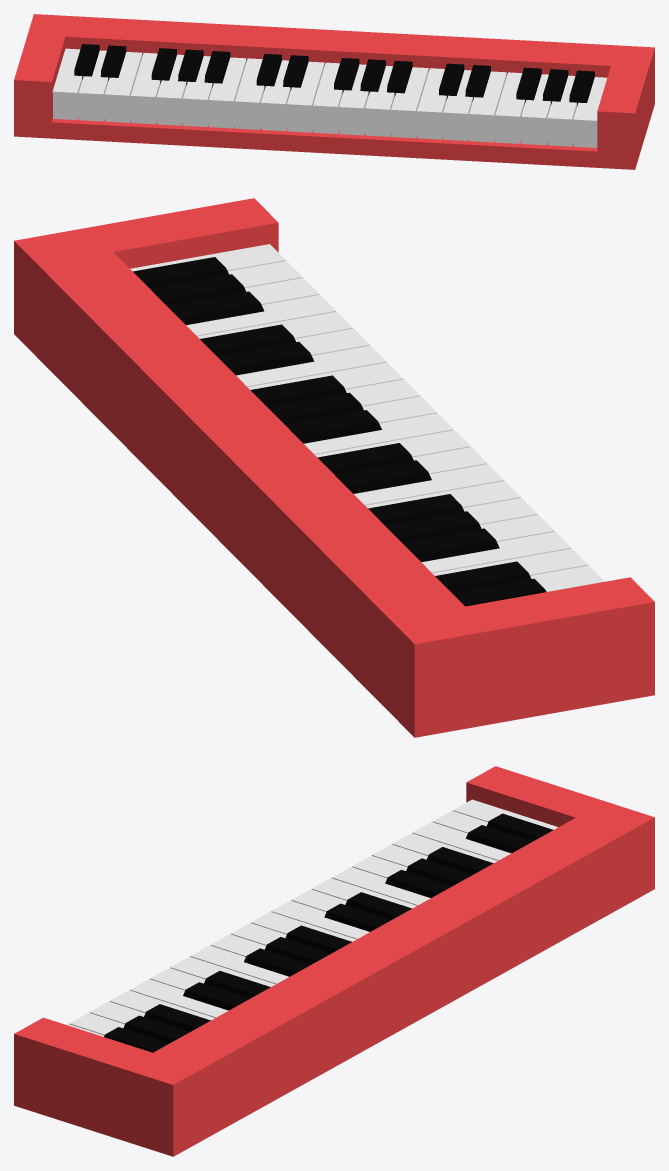
The model's file is ToyObject_176.fbx.
The picture shows the model from 3 angles, top to bottom: view 1: azimuth 30°, elevation 25°; view 2: azimuth 150°, elevation 25°; view 3: azimuth 270°, elevation 25°; orthographic projection. The views are drawn at different scales.
Visible parts, largest first — view 1: Object.026; view 2: Object.026; view 3: Object.026.
Boxes of the visible parts, x1=… form: Object.026: x1=14, y1=14, x2=654, y2=169; Object.026: x1=14, y1=198, x2=654, y2=737; Object.026: x1=14, y1=766, x2=654, y2=1156.
Size of the model in its own units: 0.1792 by 0.0188 by 0.1522.
